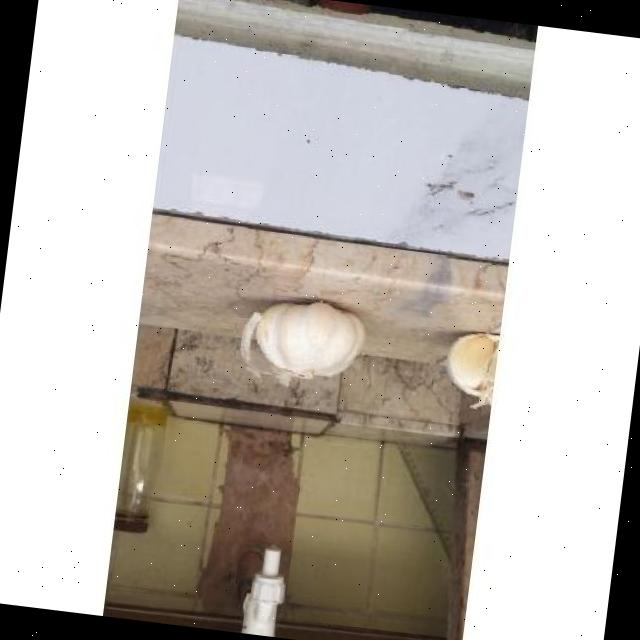garlic: (239, 300, 363, 383), (445, 332, 498, 407)
